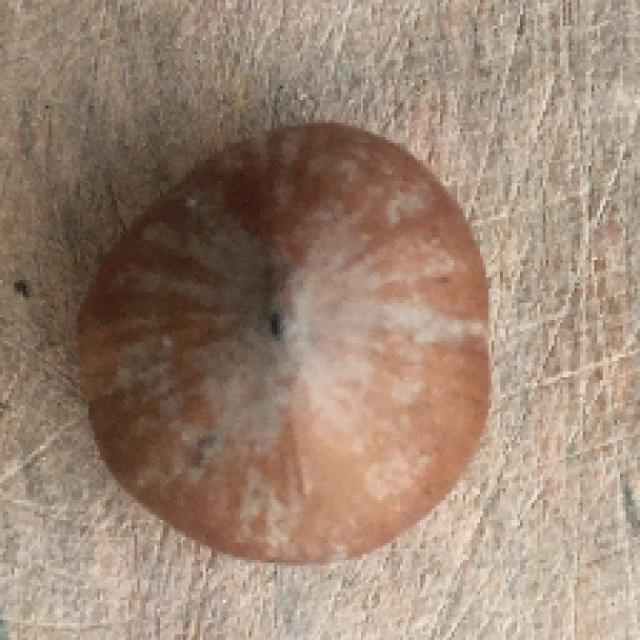damagedHazelnut: (69, 122, 503, 568)
